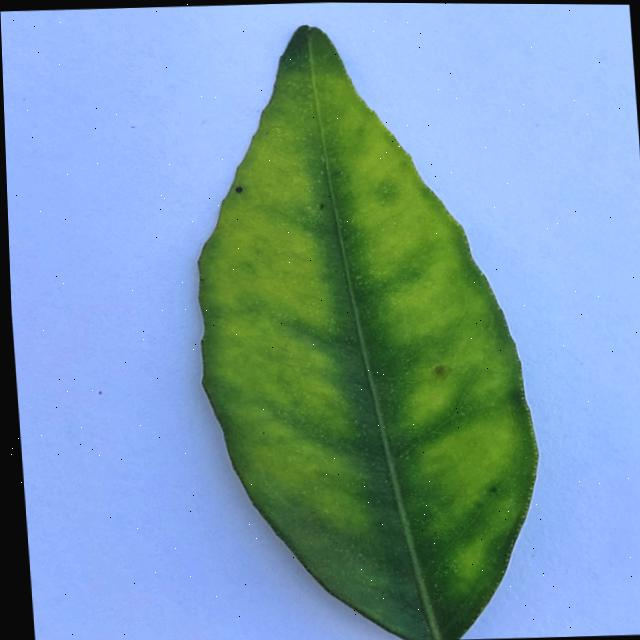greening: (198, 26, 536, 640)
